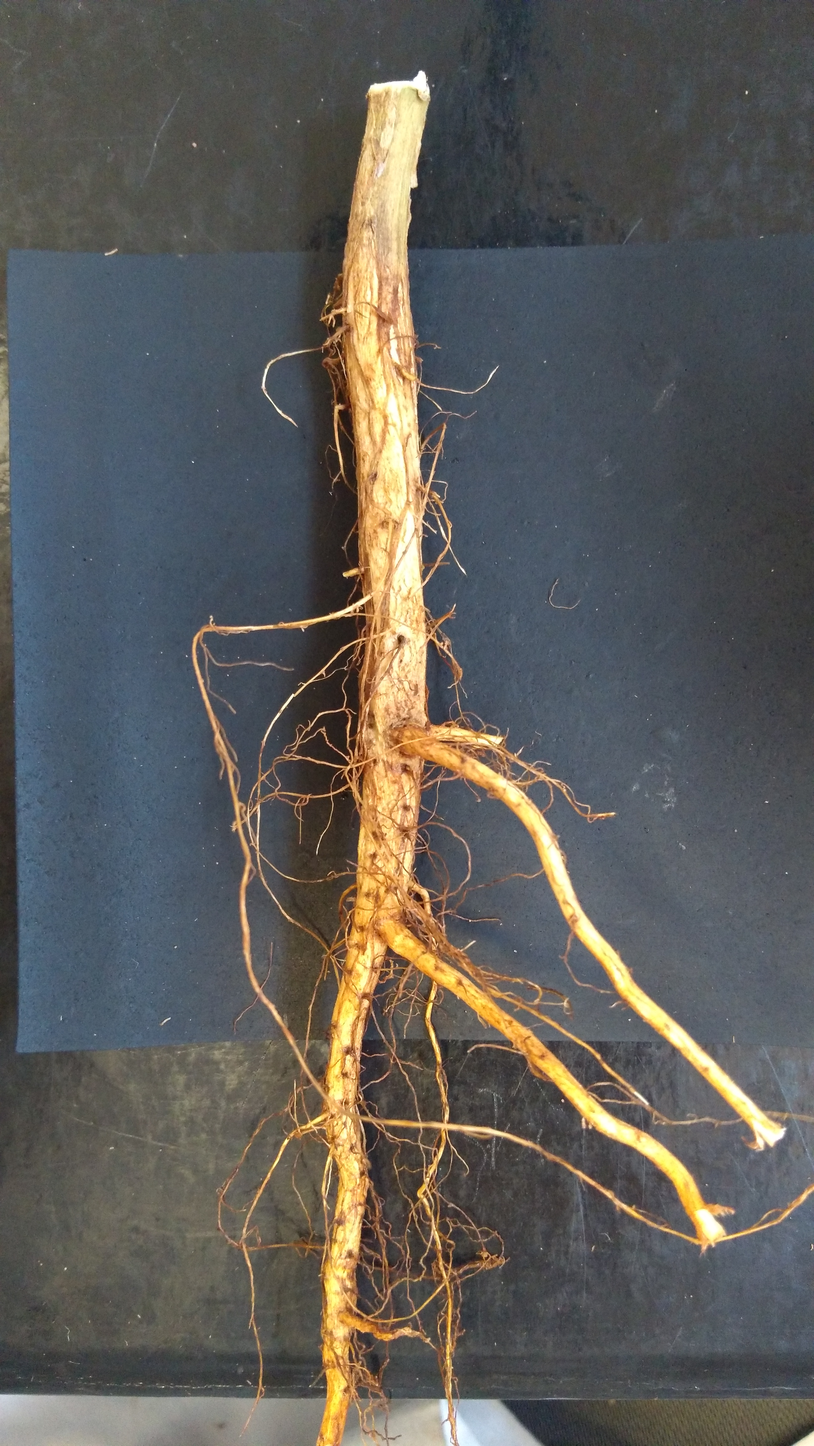nodule: (332, 273, 344, 291), (364, 1373, 379, 1387), (440, 720, 459, 728), (418, 90, 430, 102), (293, 1131, 302, 1139), (481, 1251, 488, 1258)
